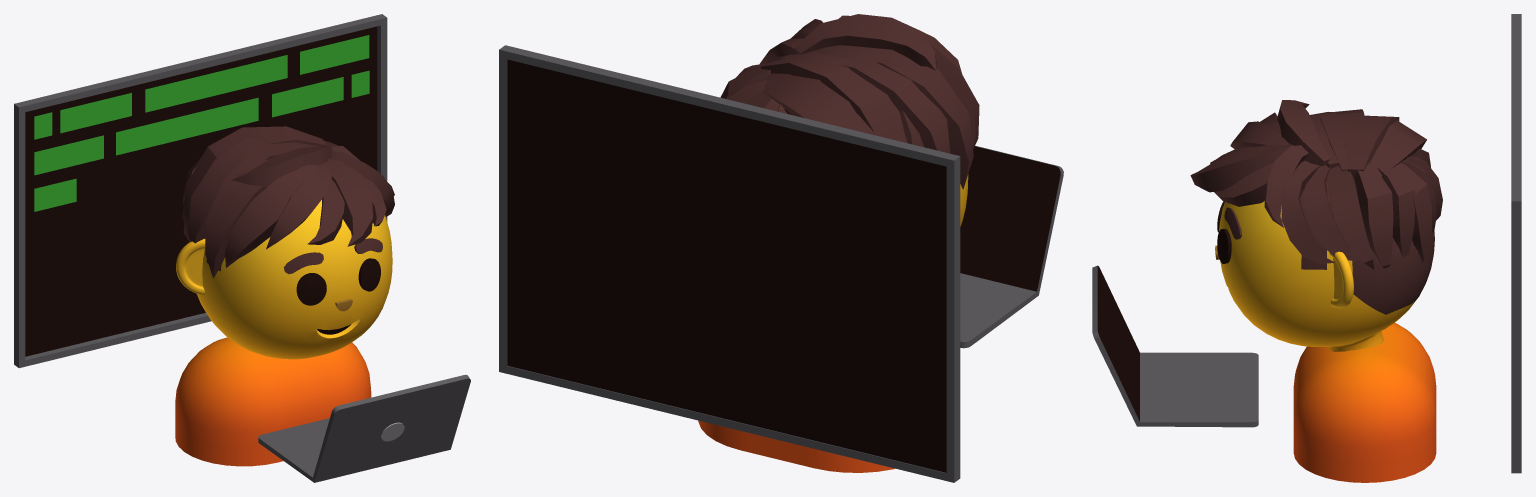
The model's file is technologist.gltf.
3 renders of one model, left to right at view 1: azimuth 30°, elevation 25°; view 2: azimuth 150°, elevation 25°; view 3: azimuth 270°, elevation 25°, orthographic. The views are drawn at different scales.
Parts seen in each view (by area): view 1: Plane.060, Cube.1453, Roundcube.116, Sphere.076, Plane.061, Circle.687, Cylinder.100, Circle.689; view 2: Plane.060, Cube.1453, Plane.061, Sphere.076; view 3: Cube.1453, Sphere.076, Roundcube.116, Plane.061, Plane.060, Cylinder.100, Circle.687.
Part boxes in pixels (<box>): Plane.060: <box>14,14,387,368</box>; Cube.1453: <box>182,126,394,278</box>; Roundcube.116: <box>197,200,392,359</box>; Sphere.076: <box>175,337,371,466</box>; Plane.061: <box>258,374,470,482</box>; Circle.687: <box>296,258,380,305</box>; Cylinder.100: <box>176,217,386,295</box>; Circle.689: <box>283,238,382,274</box>; Plane.060: <box>499,45,960,482</box>; Cube.1453: <box>720,14,979,189</box>; Plane.061: <box>960,145,1063,348</box>; Sphere.076: <box>698,420,894,472</box>; Cube.1453: <box>1190,100,1442,269</box>; Sphere.076: <box>1293,322,1436,482</box>; Roundcube.116: <box>1219,161,1434,351</box>; Plane.061: <box>1092,265,1258,427</box>; Plane.060: <box>1511,14,1521,473</box>; Cylinder.100: <box>1329,251,1353,308</box>; Circle.687: <box>1217,201,1231,263</box>.
Size of the model in its own units: 3.11 by 2.55 by 3.01.
9 materials, 3 textured.
